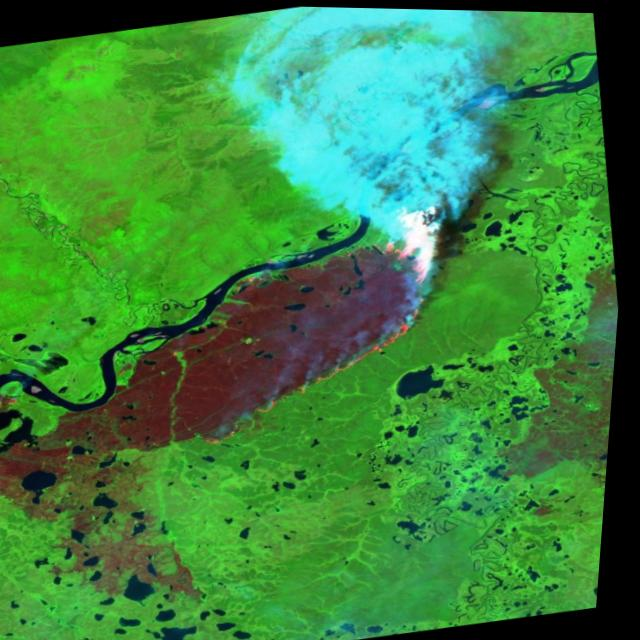fire: (164, 195, 482, 453)
